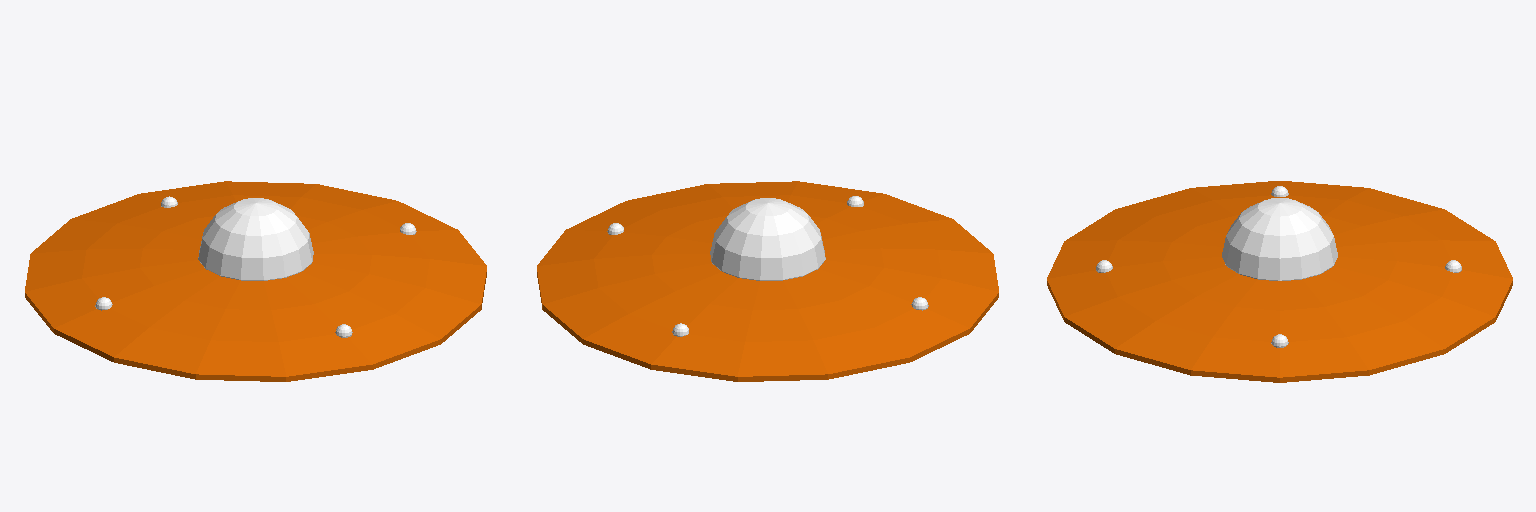
File: ufo.obj
3 renders of one model, left to right at view 1: azimuth 30°, elevation 25°; view 2: azimuth 150°, elevation 25°; view 3: azimuth 270°, elevation 25°, orthographic.
Parts seen in each view (by area): view 1: Oil_Tank, Sphere; view 2: Oil_Tank, Sphere; view 3: Oil_Tank, Sphere.
Part boxes in pixels (left/top/right/bottom): Oil_Tank: left=25, top=181, right=486, bottom=381; Sphere: left=198, top=198, right=313, bottom=280; Oil_Tank: left=537, top=181, right=998, bottom=381; Sphere: left=710, top=198, right=825, bottom=280; Oil_Tank: left=1047, top=181, right=1512, bottom=382; Sphere: left=1222, top=198, right=1337, bottom=280.
Bounding box in the file's own units: 800 × 200 × 800.